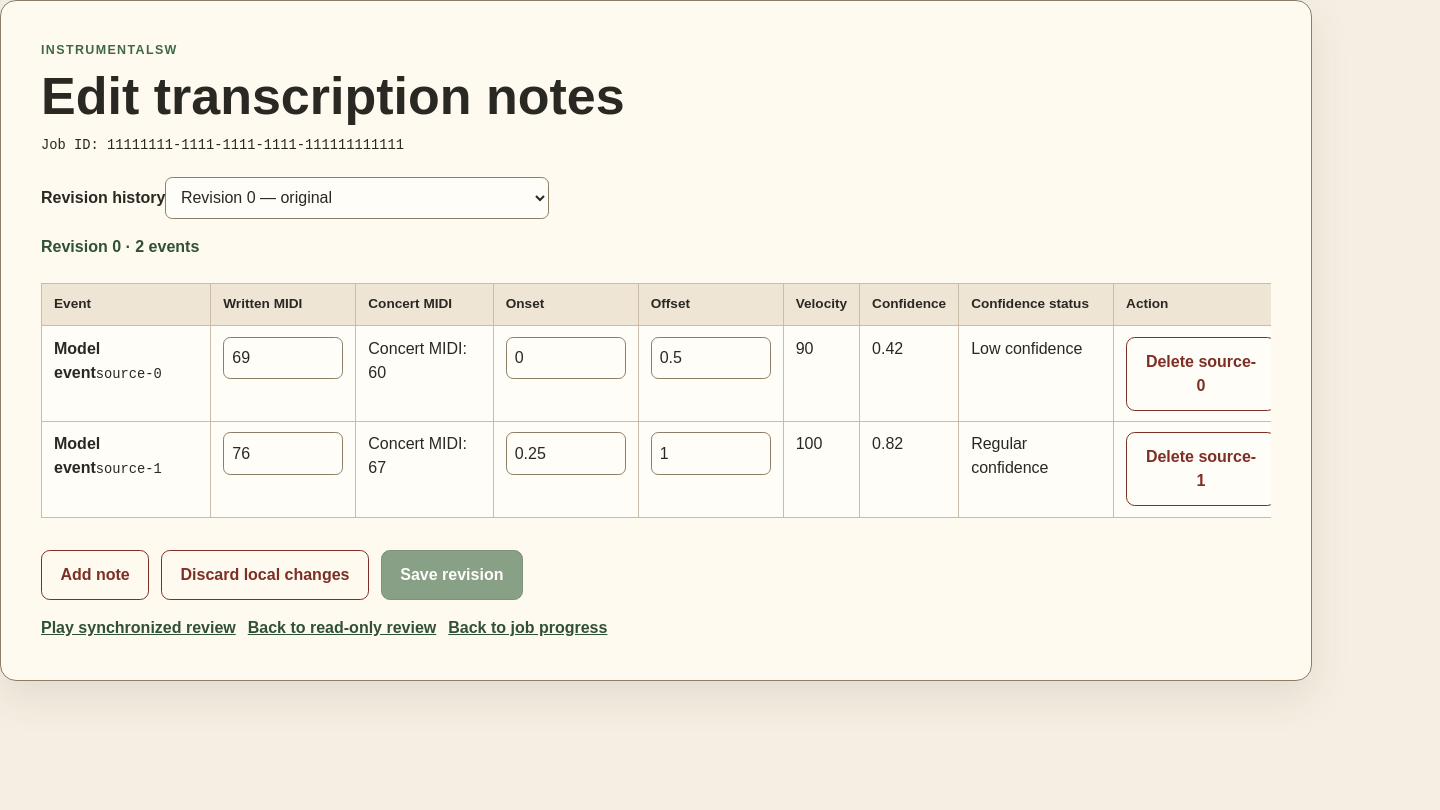
Scenario: TranscriptionRevisionEditor › adds human note with no fake confidence deletes with confirmation and discards locally
expect the table named "Editable note events" is shown: met, box [41,283,1271,518]
Click the button "Add note" at coordinates (95, 575), box [41,550,149,600]
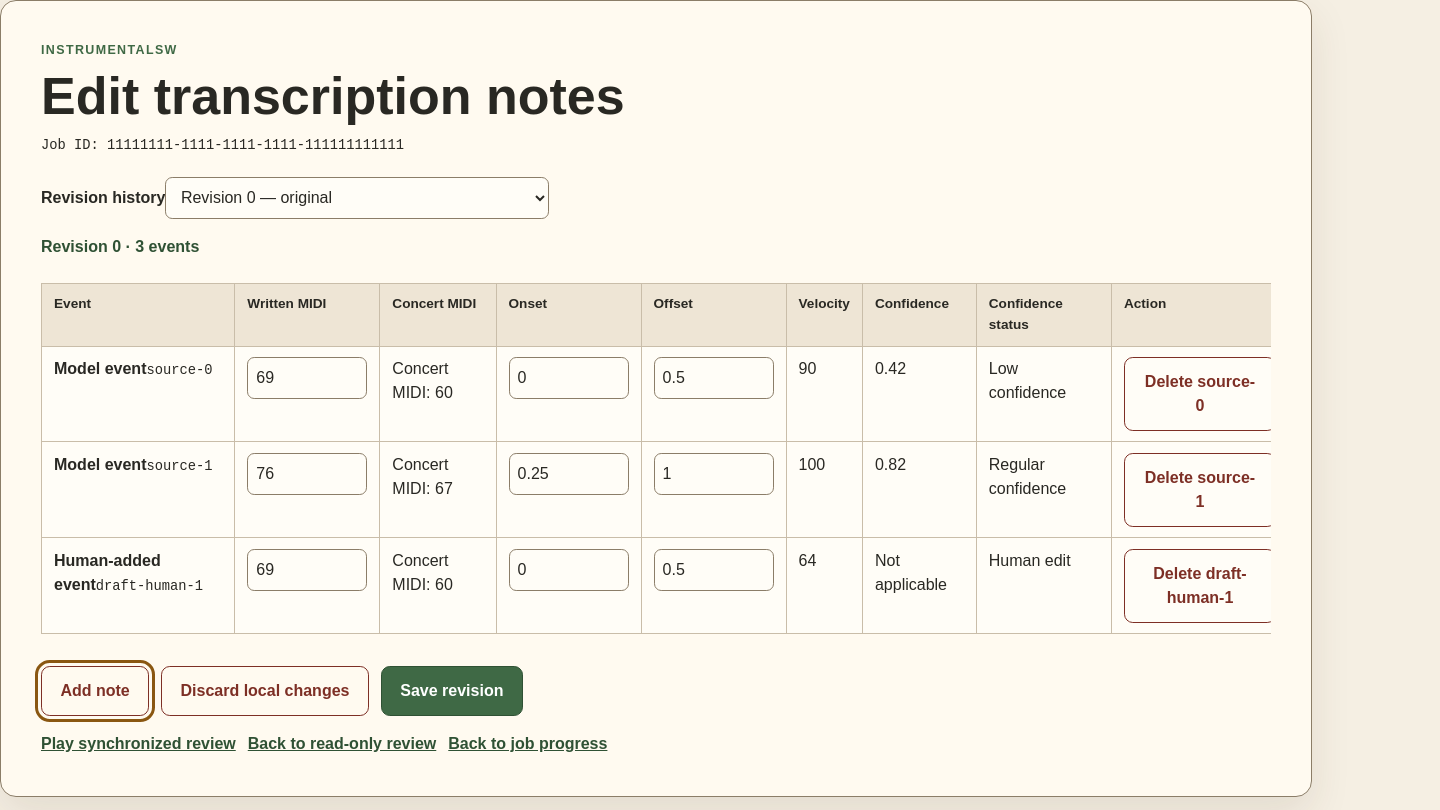
expect the text "Human-added event" is shown: met, box [54,552,161,593]
expect the text "Not applicable" is shown: met, box [862,538,976,634]
expect the text "Human edit" is shown: met, box [976,538,1112,634]
Click the button "Delete source-1" at coordinates (1200, 490), box [1124,453,1276,527]
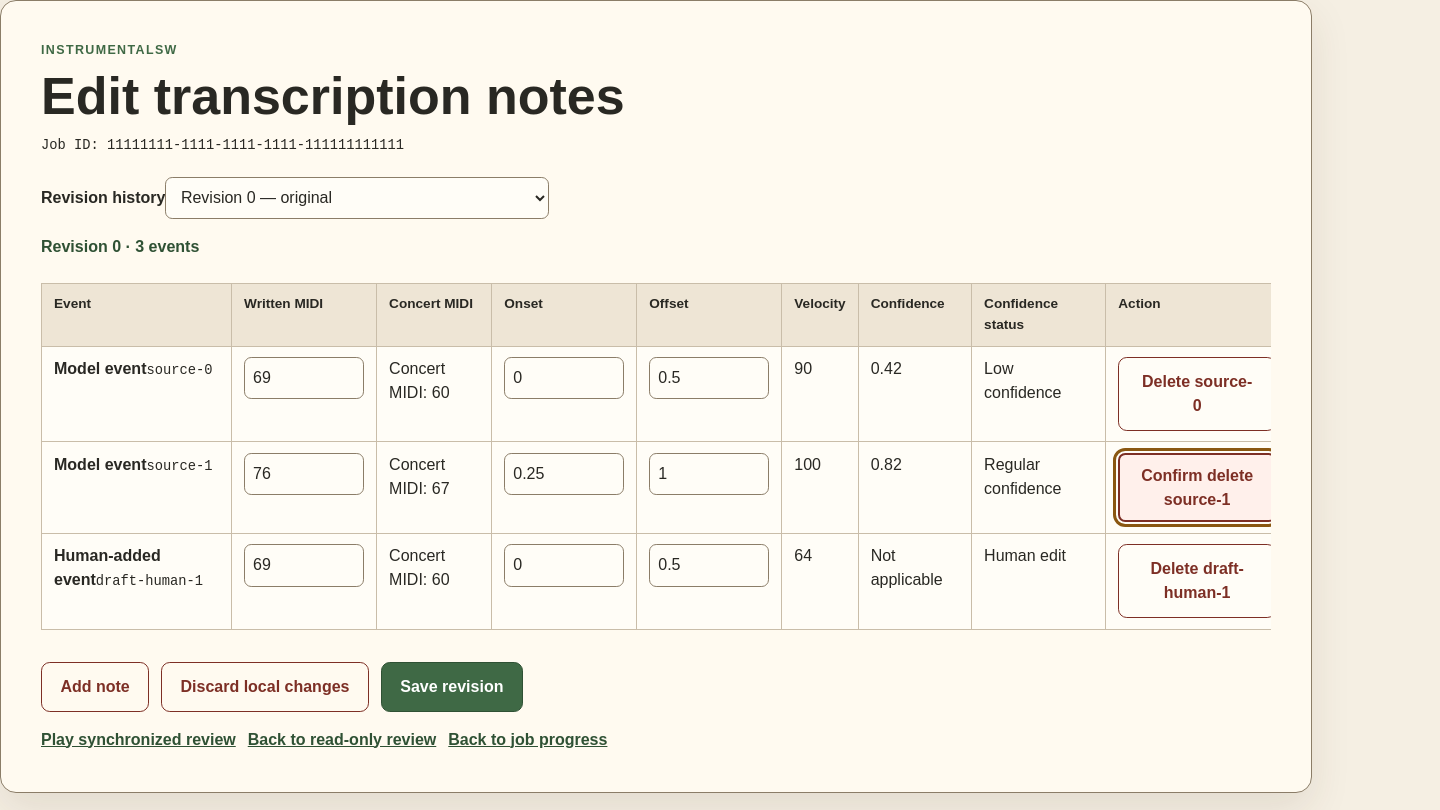
expect the button "Confirm delete source-1" is shown: met
Click the button "Confirm delete source-1" at coordinates (1197, 488), box [1118,453,1276,522]
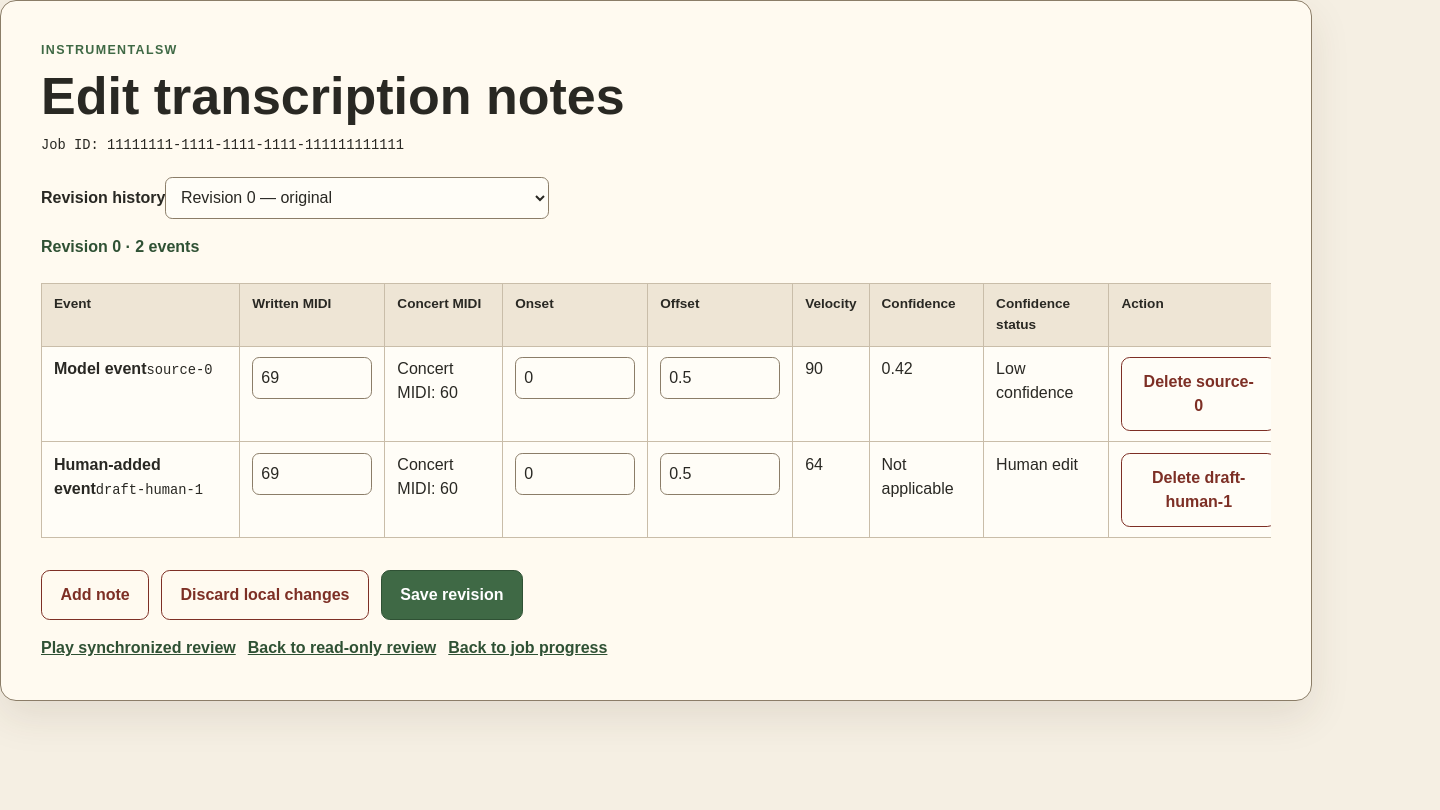
expect the field labelled "Written MIDI for source-1" is not shown: met
Click the button "Discard local changes" at coordinates (265, 595), box [161,570,369,620]
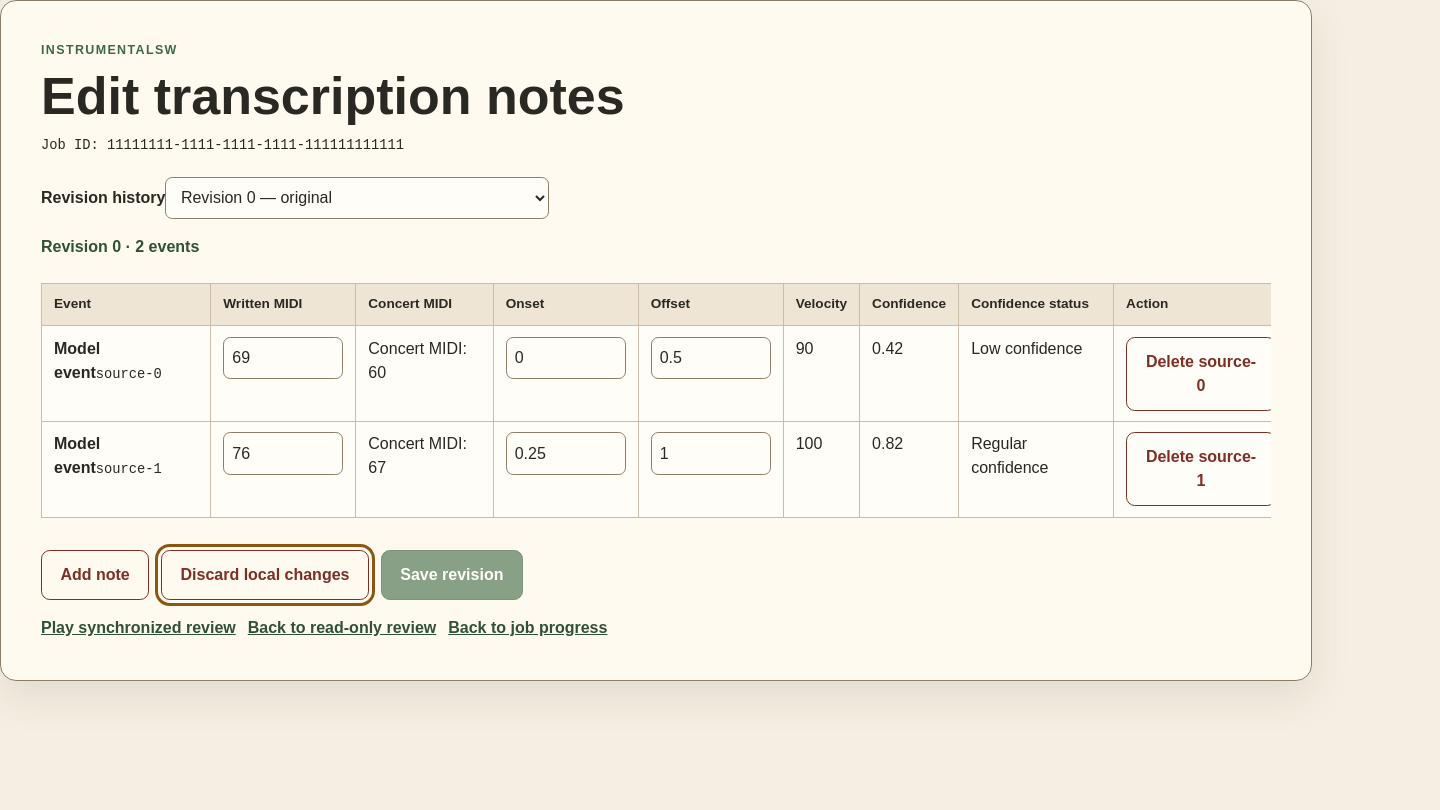
expect the number field named "Written MIDI for source-1" is shown: met, box [223,432,343,475]
expect the text "Human-added event" is gone: met
